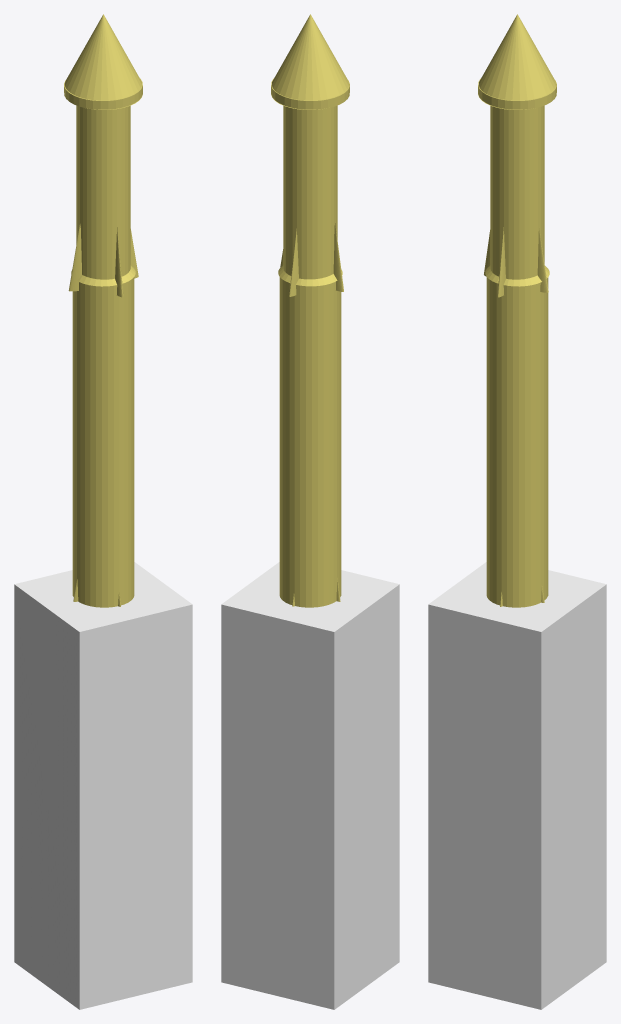
Rendered from rocket2.glb.
The picture shows the model from 3 angles, left to right: view 1: azimuth 30°, elevation 25°; view 2: azimuth 150°, elevation 25°; view 3: azimuth 330°, elevation 25°; orthographic projection.
Parts seen in each view (by area): view 1: Smoke Domain, Cone.003; view 2: Smoke Domain, Cone.003; view 3: Smoke Domain, Cone.003.
Boxes of the visible parts, box(x1,y1,x2,y2) form: Smoke Domain: box(14, 562, 192, 1009); Cone.003: box(64, 14, 142, 607); Smoke Domain: box(221, 562, 399, 1009); Cone.003: box(271, 14, 349, 607); Smoke Domain: box(428, 562, 606, 1009); Cone.003: box(478, 14, 556, 607).
Size of the model in its own units: 2.58 by 20.9 by 2.58.
